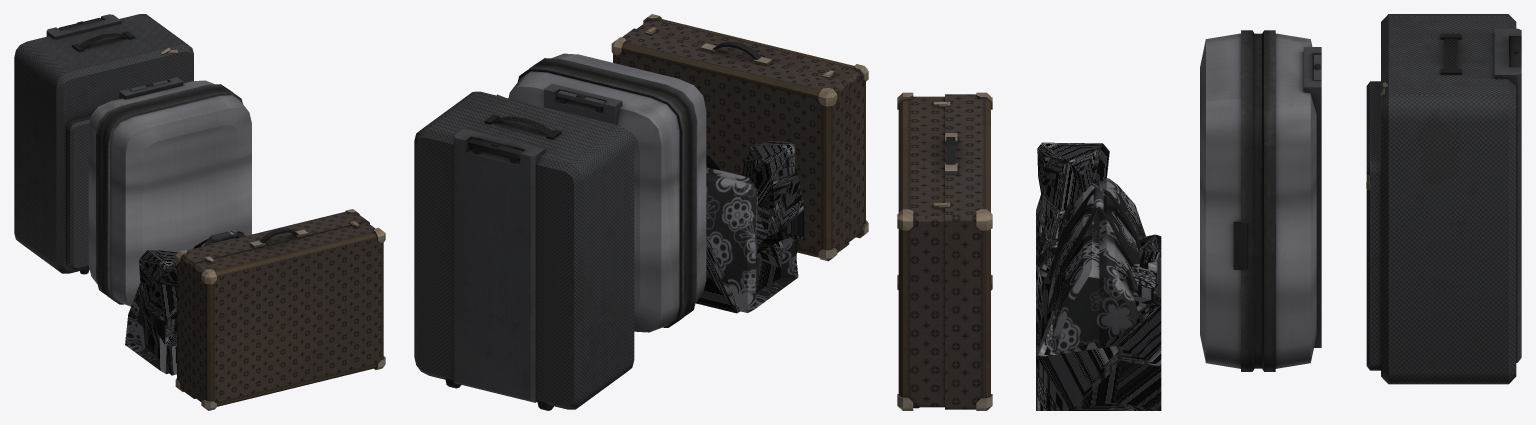
Rendered from bag2.fbx.
3 views of the same model, side by side, from view 1: azimuth 30°, elevation 25°; view 2: azimuth 150°, elevation 25°; view 3: azimuth 270°, elevation 25° (orthographic). The views are drawn at different scales.
Parts seen in each view (by area): view 1: suitcase1, suitcase2, suitcase3, bag_cell.045, bag_cell.028, bag, bag_cell.004, bag_cell.011; view 2: suitcase3, suitcase1, suitcase2, bag, bag_cell.028, bag_cell.045, bag_cell.017, bag_cell.004, bag_cell.022; view 3: suitcase3, suitcase2, suitcase1, bag, bag_cell.042, bag_cell.028, bag_cell.046, bag_cell.003, bag_cell.032, bag_cell.002, bag_cell.004, bag_cell.045.
Boxes of the visible parts, x1=… form: suitcase1: x1=175, y1=209, x2=385, y2=410; suitcase2: x1=88, y1=77, x2=251, y2=306; suitcase3: x1=14, y1=14, x2=193, y2=274; bag_cell.045: x1=139, y1=283, x2=176, y2=348; bag_cell.028: x1=139, y1=250, x2=177, y2=286; bag: x1=125, y1=230, x2=245, y2=373; bag_cell.004: x1=143, y1=314, x2=176, y2=375; bag_cell.011: x1=136, y1=309, x2=168, y2=373; suitcase3: x1=414, y1=91, x2=634, y2=410; suitcase1: x1=611, y1=14, x2=868, y2=261; suitcase2: x1=508, y1=53, x2=706, y2=332; bag: x1=706, y1=153, x2=798, y2=312; bag_cell.028: x1=742, y1=141, x2=797, y2=208; bag_cell.045: x1=769, y1=172, x2=804, y2=242; bag_cell.017: x1=696, y1=235, x2=740, y2=313; bag_cell.004: x1=755, y1=240, x2=797, y2=291; bag_cell.022: x1=756, y1=203, x2=781, y2=253; suitcase3: x1=1366, y1=14, x2=1521, y2=384; suitcase2: x1=1200, y1=30, x2=1321, y2=371; suitcase1: x1=897, y1=92, x2=992, y2=410; bag: x1=1041, y1=178, x2=1145, y2=352; bag_cell.042: x1=1043, y1=345, x2=1121, y2=410; bag_cell.028: x1=1037, y1=142, x2=1109, y2=210; bag_cell.046: x1=1102, y1=302, x2=1161, y2=366; bag_cell.003: x1=1036, y1=303, x2=1099, y2=410; bag_cell.032: x1=1115, y1=362, x2=1161, y2=410; bag_cell.002: x1=1055, y1=261, x2=1161, y2=315; bag_cell.004: x1=1036, y1=238, x2=1058, y2=281; bag_cell.045: x1=1036, y1=194, x2=1059, y2=251.
Bounding box in the file's own units: 7407 × 8393 × 15538.
